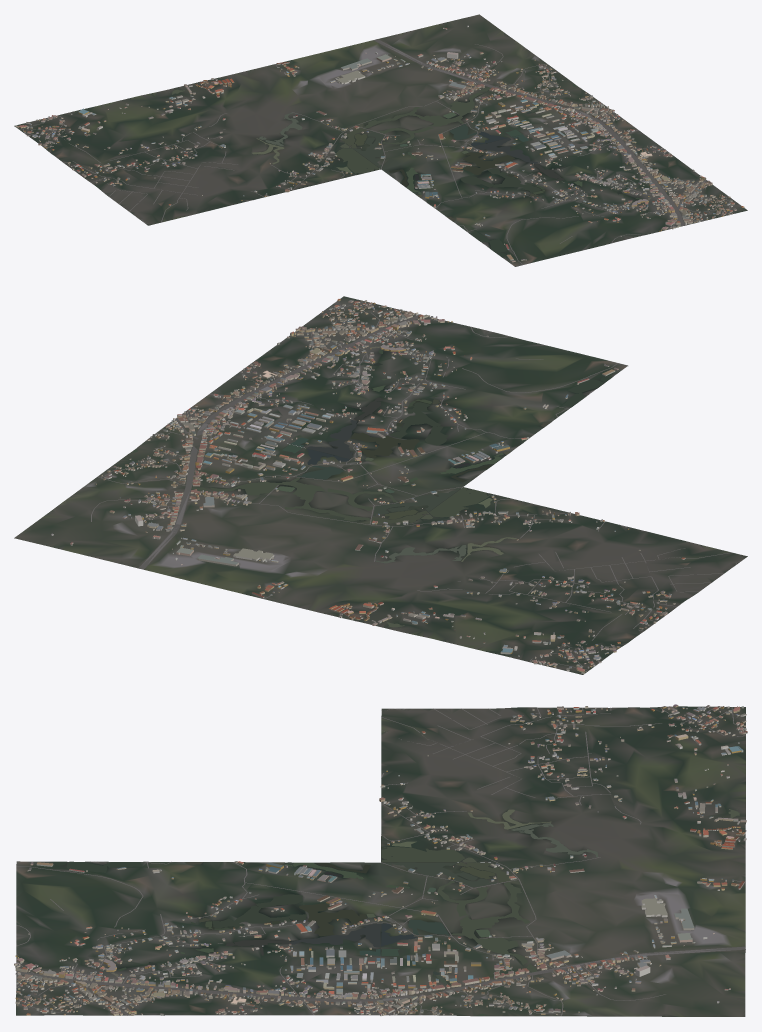
3 views of the same model, one above another, from view 1: azimuth 30°, elevation 25°; view 2: azimuth 150°, elevation 25°; view 3: azimuth 270°, elevation 25° (orthographic). The views are drawn at different scales.
Visible parts, largest first — view 1: ground, buildings, water, roads; view 2: ground, buildings, water, roads; view 3: ground, buildings, water, roads.
Part boxes in pixels (x1,y1,x2,y2): ground: [14, 14, 747, 266]; buildings: [15, 25, 744, 262]; water: [169, 84, 651, 257]; roads: [19, 39, 733, 264]; ground: [14, 296, 747, 674]; buildings: [51, 299, 685, 674]; water: [131, 346, 611, 628]; roads: [91, 301, 743, 670]; ground: [16, 706, 745, 1016]; buildings: [14, 704, 747, 1016]; water: [53, 809, 739, 1015]; roads: [15, 706, 746, 1015].
Size of the model in its own units: 2816 by 28.25 by 2822.
